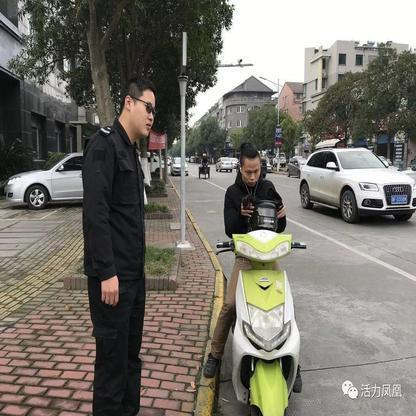target: (213, 142, 306, 410)
